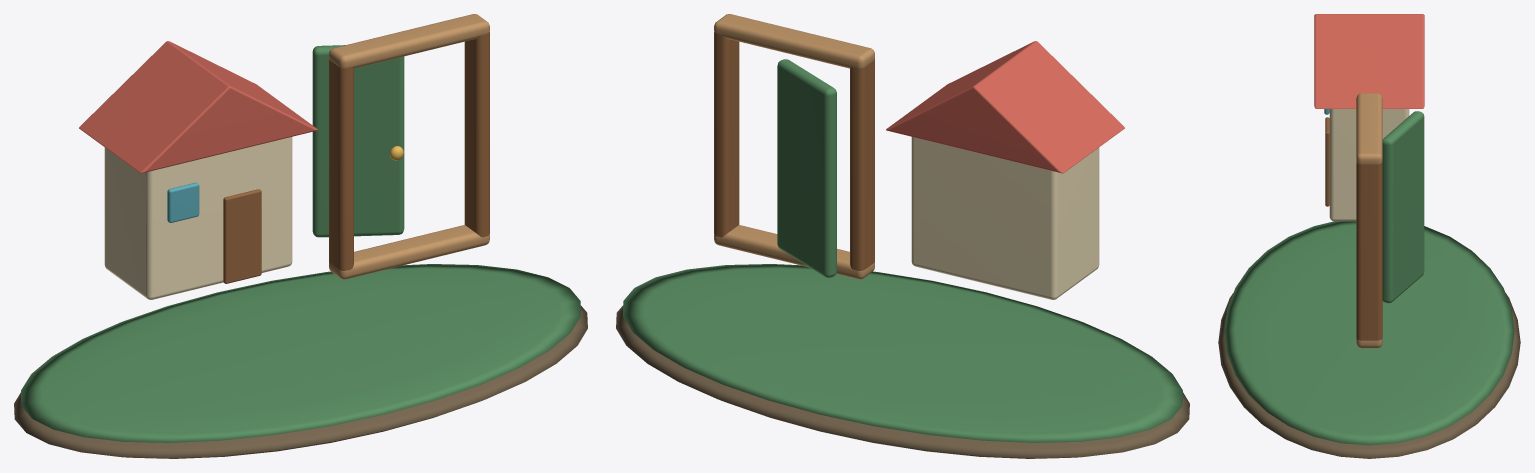
The model's file is room-between.glb.
3 renders of one model, left to right at view 1: azimuth 30°, elevation 25°; view 2: azimuth 150°, elevation 25°; view 3: azimuth 270°, elevation 25°, orthographic. The views are drawn at different scales.
Visible parts, largest first — view 1: room-between_surface_01, room-between_surface_02, room-between_surface_03, room-between_surface_04, room-between_surface_00, room-between_surface_06, room-between_surface_05; view 2: room-between_surface_01, room-between_surface_02, room-between_surface_03, room-between_surface_04, room-between_surface_00, room-between_surface_06; view 3: room-between_surface_01, room-between_surface_03, room-between_surface_00, room-between_surface_04, room-between_surface_02, room-between_surface_06.
Part boxes in pixels (bbox=[...]): room-between_surface_01: bbox=[21, 45, 580, 442]; room-between_surface_02: bbox=[104, 137, 292, 299]; room-between_surface_03: bbox=[79, 41, 317, 173]; room-between_surface_04: bbox=[223, 32, 489, 283]; room-between_surface_00: bbox=[14, 306, 587, 458]; room-between_surface_06: bbox=[329, 14, 489, 279]; room-between_surface_05: bbox=[167, 182, 199, 222]; room-between_surface_01: bbox=[623, 59, 1182, 442]; room-between_surface_02: bbox=[911, 137, 1099, 299]; room-between_surface_03: bbox=[886, 41, 1124, 173]; room-between_surface_04: bbox=[714, 32, 874, 270]; room-between_surface_00: bbox=[616, 306, 1189, 458]; room-between_surface_06: bbox=[714, 14, 874, 279]; room-between_surface_01: bbox=[1224, 111, 1514, 445]; room-between_surface_03: bbox=[1314, 14, 1424, 108]; room-between_surface_00: bbox=[1218, 293, 1520, 458]; room-between_surface_04: bbox=[1325, 117, 1382, 340]; room-between_surface_02: bbox=[1329, 109, 1409, 221]; room-between_surface_06: bbox=[1356, 93, 1382, 348].
Bounding box in the file's own units: 4.56 × 2.73 × 2.5.
